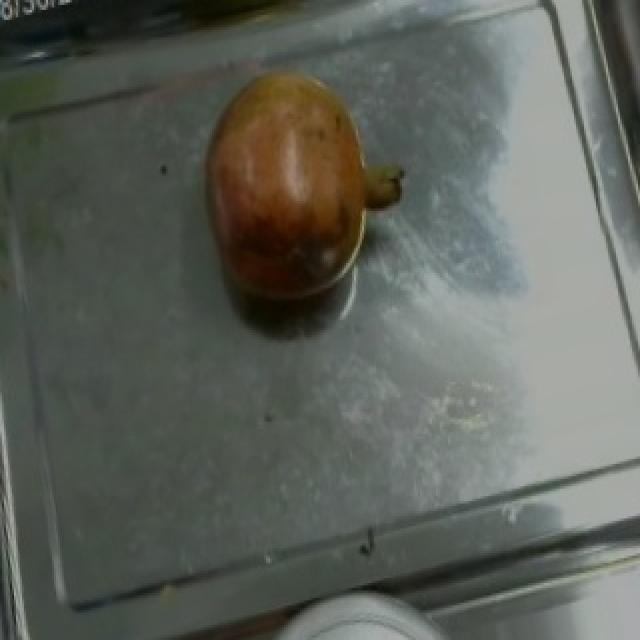fruit: (180, 42, 422, 318)
